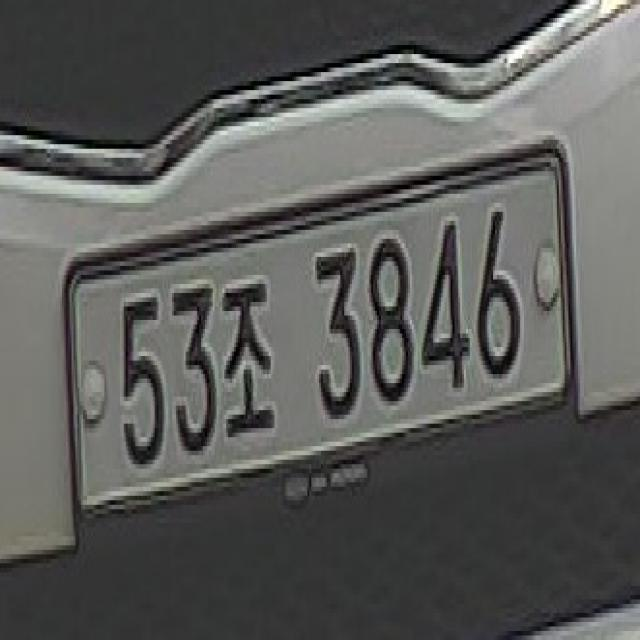3: (315, 225, 366, 451), (170, 266, 221, 469)
4: (410, 180, 477, 424)
5: (116, 270, 174, 487)
6: (476, 180, 536, 397)
8: (369, 221, 422, 442)
jo: (215, 261, 286, 451)
license_plate: (62, 136, 584, 554)
